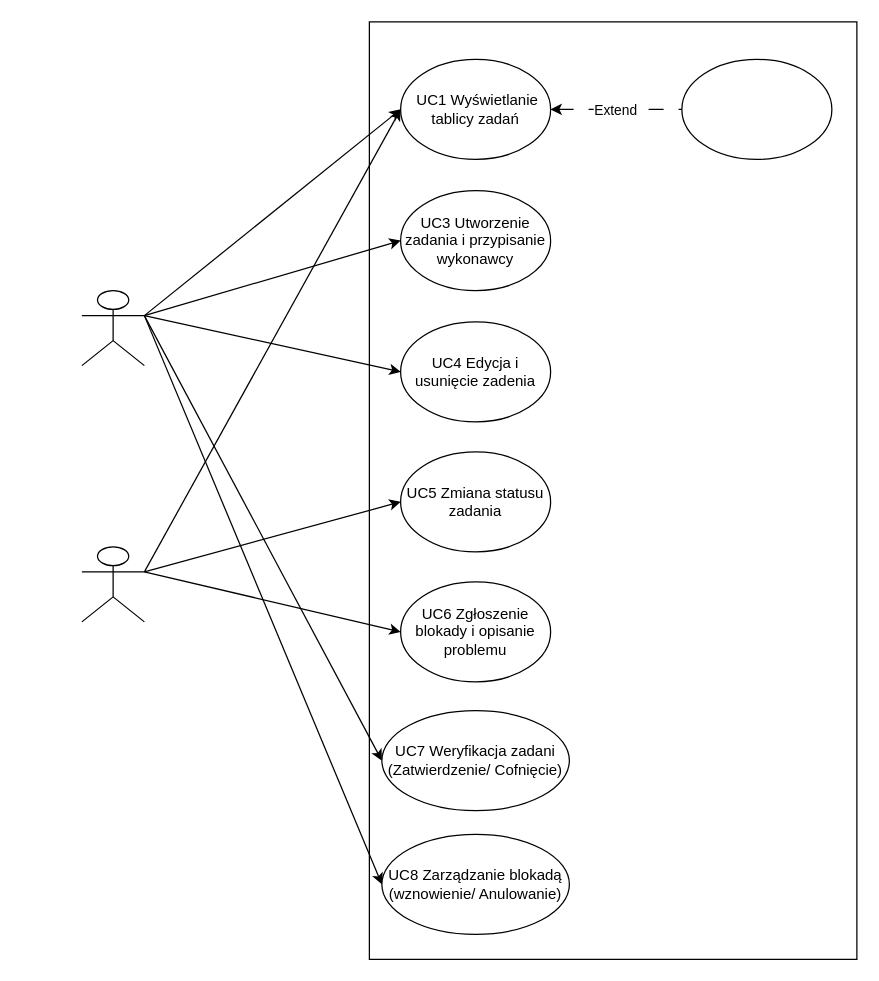
This 879x981 diagram has some shape labels left out. The centre of each missing label's shape, as x and y in pixels:
Członek Koła (Wykonawca): pixel 112 584
Lider Projektu (Przewodniczący / Koordynator): pixel 112 327
UC2 Filtrowanie zadań: pixel 756 108
